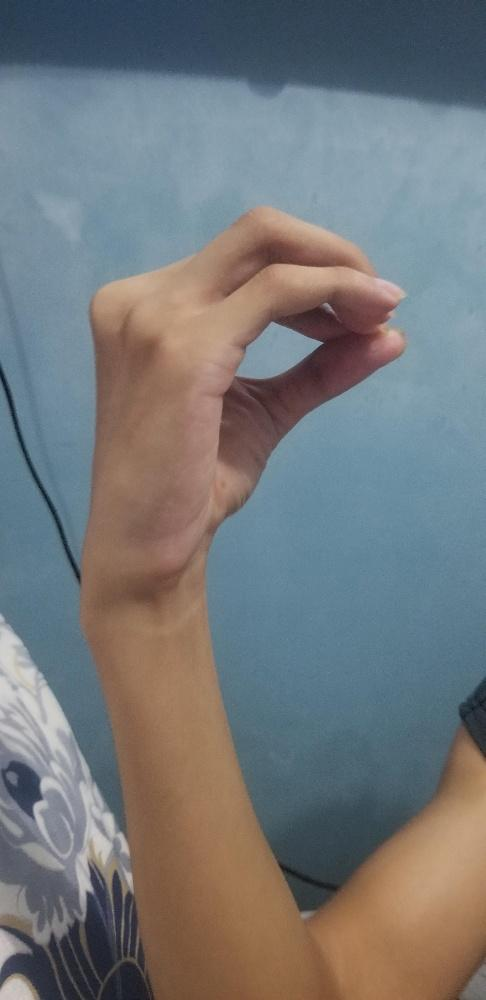o: (74, 199, 411, 587)
